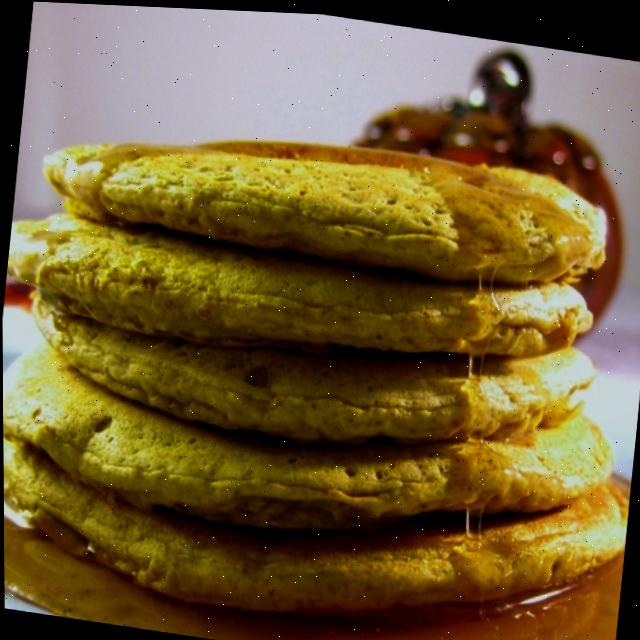蛋糕甜品: (0, 58, 640, 640)
